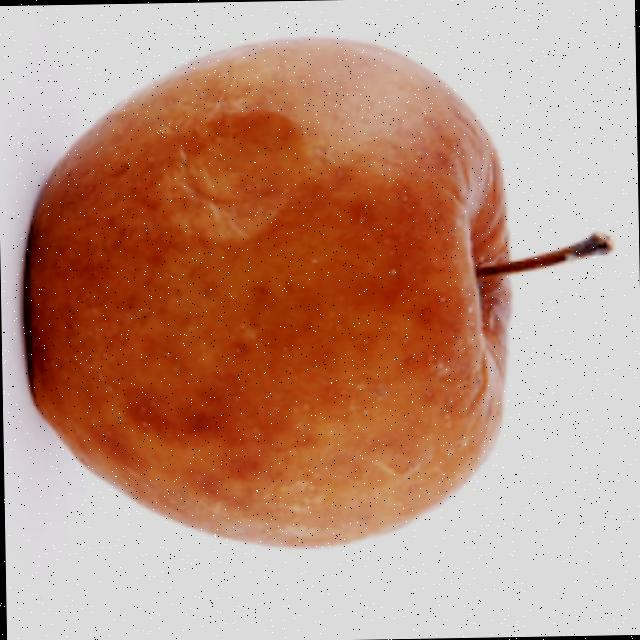overripe: (14, 26, 524, 558)
